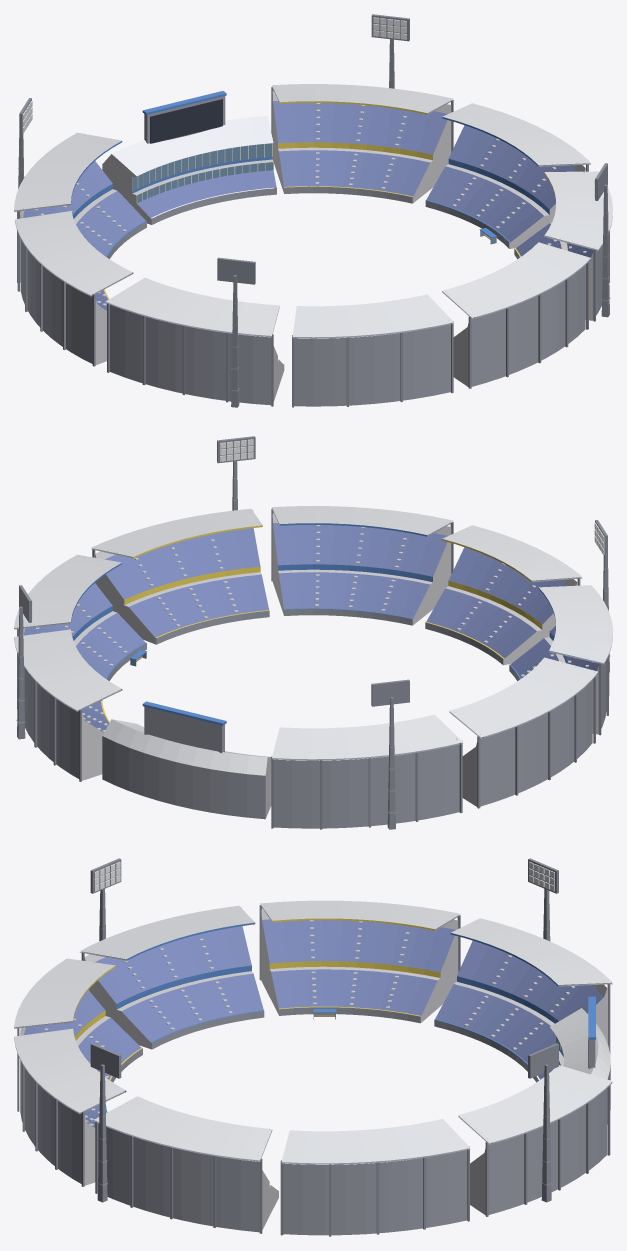
The model's file is stadium.glb.
3 views of the same model, one above another, from view 1: azimuth 30°, elevation 25°; view 2: azimuth 150°, elevation 25°; view 3: azimuth 270°, elevation 25° (orthographic). The views are drawn at different scales.
Parts seen in each view (by area): view 1: Stand_392, Stand_196, Stand_236, Pavilion, Stand_272, Stand_352, Stand_154, Stand_112, Stand_312, Floodlight_2, Floodlight_3, Floodlight_0 (+1 smaller); view 2: Stand_272, Stand_112, Stand_312, Stand_154, Pavilion, Stand_236, Stand_392, Stand_352, Stand_196, Floodlight_1, Floodlight_0, Floodlight_3 (+1 smaller); view 3: Stand_154, Stand_352, Stand_196, Stand_312, Stand_112, Stand_392, Stand_272, Stand_236, Pavilion, Floodlight_3, Floodlight_0, Floodlight_2 (+1 smaller).
Part boxes in pixels (left/top/right/bottom): Stand_392: left=271, top=84, right=453, bottom=203; Stand_196: left=106, top=277, right=284, bottom=406; Stand_236: left=292, top=294, right=453, bottom=407; Pavilion: left=102, top=91, right=276, bottom=224; Stand_272: left=442, top=242, right=590, bottom=388; Stand_352: left=425, top=103, right=590, bottom=248; Stand_154: left=15, top=211, right=133, bottom=366; Stand_112: left=14, top=132, right=146, bottom=282; Stand_312: left=514, top=171, right=612, bottom=321; Floodlight_2: left=217, top=257, right=255, bottom=407; Floodlight_3: left=594, top=163, right=610, bottom=317; Floodlight_0: left=371, top=14, right=409, bottom=88; Stand_272: left=271, top=506, right=453, bottom=625; Stand_112: left=271, top=714, right=462, bottom=829; Stand_312: left=91, top=508, right=269, bottom=644; Stand_154: left=449, top=657, right=597, bottom=808; Pavilion: left=102, top=701, right=271, bottom=819; Stand_236: left=425, top=525, right=582, bottom=665; Stand_392: left=14, top=629, right=122, bottom=781; Stand_352: left=14, top=554, right=146, bottom=700; Stand_196: left=509, top=585, right=612, bottom=735; Floodlight_1: left=371, top=679, right=409, bottom=829; Floodlight_0: left=16, top=585, right=32, bottom=739; Floodlight_3: left=217, top=436, right=255, bottom=510; Stand_154: left=259, top=900, right=460, bottom=1023; Stand_352: left=280, top=1119, right=470, bottom=1236; Stand_196: left=80, top=905, right=264, bottom=1049; Stand_312: left=94, top=1096, right=278, bottom=1233; Stand_112: left=434, top=918, right=612, bottom=1071; Stand_392: left=458, top=1065, right=612, bottom=1216; Stand_272: left=14, top=1028, right=126, bottom=1186; Stand_236: left=14, top=958, right=142, bottom=1082; Pavilion: left=533, top=996, right=610, bottom=1124; Floodlight_3: left=90, top=1043, right=121, bottom=1202; Floodlight_0: left=528, top=1043, right=558, bottom=1202; Floodlight_2: left=90, top=858, right=121, bottom=941.
Bounding box in the file's own units: 200 × 53 × 193.
